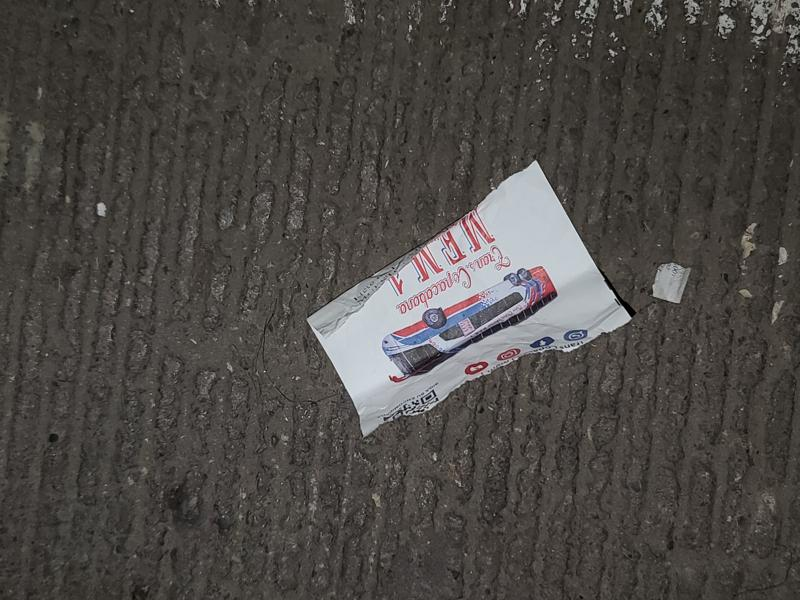papel: (307, 163, 632, 436)
